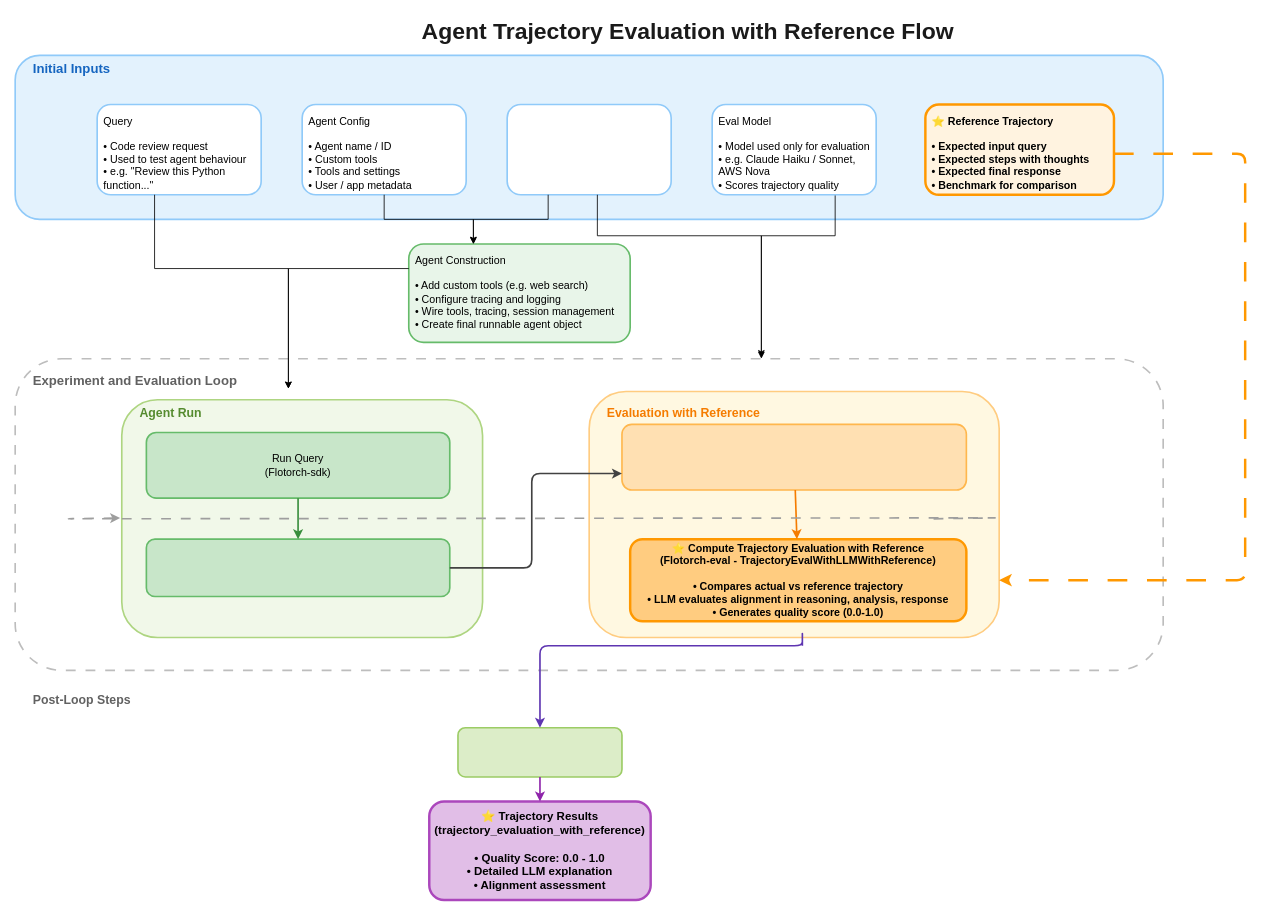
The diagram is 1275 pixels wide and 915 high, and some of its shapes have lost their labels. Here are the shapes that lost their labels. From the top down, the centre of each, then its label:
At pixel 589 149: "Credentials • FLOTORCH_API_KEY • FLOTORCH_BASE_URL".
At pixel 794 456: "Fetch Traces (Flotorch-eval)".
At pixel 297 567: "Generate Traces (Automatic - captured by Flotorch-sdk)".
At pixel 539 752: "Aggregate Scores".
